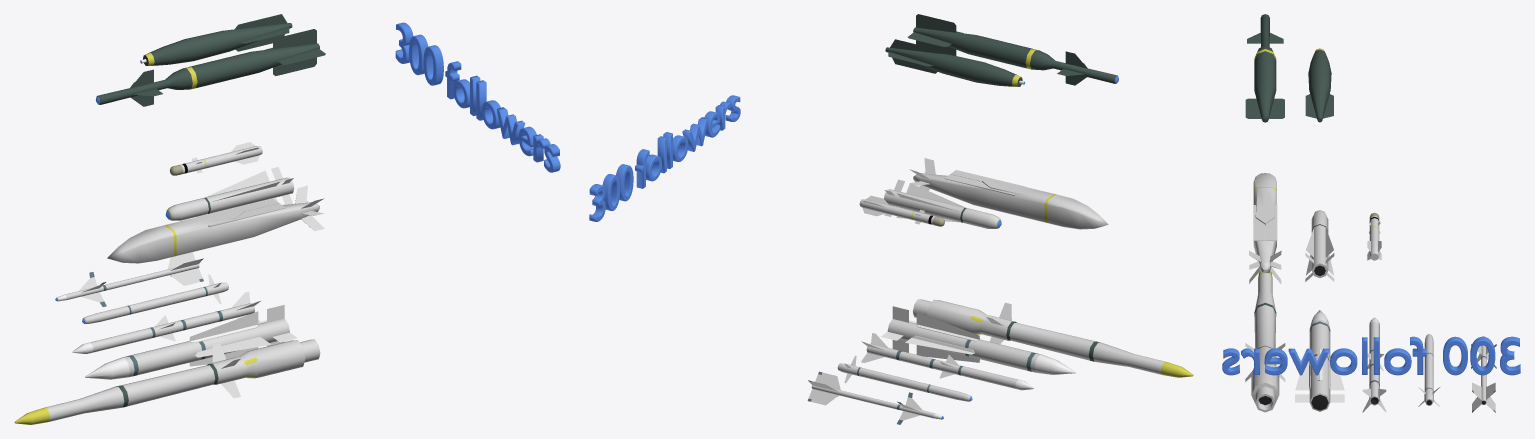
The model's file is missile_set.glb.
3 renders of one model, left to right at view 1: azimuth 30°, elevation 25°; view 2: azimuth 150°, elevation 25°; view 3: azimuth 270°, elevation 25°, orthographic. The views are drawn at different scales.
Parts seen in each view (by area): view 1: KS-172 Novator_11, AGM-154 JSOW_1, Text.001_4, AIM-54 Phoenix_8, GBU-24 Paveway_6, Mk83 bomb_7, AGM65 Maverick_0, AIM-120 Amraam_10, AIM-9 Sidewinder_9, AIM-132 Asraam_12, MBDA Brimstone_2; view 2: KS-172 Novator_11, AGM-154 JSOW_1, AIM-54 Phoenix_8, Text.001_4, GBU-24 Paveway_6, Mk83 bomb_7, AGM65 Maverick_0, AIM-120 Amraam_10, AIM-9 Sidewinder_9, AIM-132 Asraam_12, MBDA Brimstone_2; view 3: Text.001_4, KS-172 Novator_11, AGM-154 JSOW_1, GBU-24 Paveway_6, AIM-54 Phoenix_8, Mk83 bomb_7, AGM65 Maverick_0, AIM-120 Amraam_10, AIM-9 Sidewinder_9, AIM-132 Asraam_12, MBDA Brimstone_2.
Boxes of the visible parts, bbox=[...] form: KS-172 Novator_11: bbox=[14, 339, 320, 424]; AGM-154 JSOW_1: bbox=[107, 185, 324, 263]; Text.001_4: bbox=[395, 22, 560, 172]; AIM-54 Phoenix_8: bbox=[85, 305, 297, 379]; GBU-24 Paveway_6: bbox=[96, 29, 325, 106]; Mk83 bomb_7: bbox=[140, 14, 292, 65]; AGM65 Maverick_0: bbox=[165, 167, 294, 220]; AIM-120 Amraam_10: bbox=[72, 291, 260, 353]; AIM-9 Sidewinder_9: bbox=[55, 252, 203, 306]; AIM-132 Asraam_12: bbox=[82, 274, 228, 323]; MBDA Brimstone_2: bbox=[169, 142, 262, 175]; KS-172 Novator_11: bbox=[913, 299, 1193, 377]; AGM-154 JSOW_1: bbox=[909, 158, 1108, 229]; AIM-54 Phoenix_8: bbox=[881, 306, 1075, 374]; Text.001_4: bbox=[589, 95, 740, 221]; GBU-24 Paveway_6: bbox=[908, 14, 1118, 85]; Mk83 bomb_7: bbox=[885, 39, 1025, 86]; AGM65 Maverick_0: bbox=[884, 179, 1001, 228]; AIM-120 Amraam_10: bbox=[861, 333, 1034, 390]; AIM-9 Sidewinder_9: bbox=[807, 371, 943, 424]; AIM-132 Asraam_12: bbox=[837, 355, 972, 401]; MBDA Brimstone_2: bbox=[859, 195, 944, 226]; Text.001_4: bbox=[1222, 336, 1520, 375]; KS-172 Novator_11: bbox=[1245, 271, 1285, 412]; AGM-154 JSOW_1: bbox=[1249, 173, 1281, 283]; GBU-24 Paveway_6: bbox=[1245, 14, 1284, 122]; AIM-54 Phoenix_8: bbox=[1295, 310, 1344, 411]; Mk83 bomb_7: bbox=[1305, 48, 1333, 122]; AGM65 Maverick_0: bbox=[1305, 210, 1334, 281]; AIM-120 Amraam_10: bbox=[1362, 317, 1386, 412]; AIM-9 Sidewinder_9: bbox=[1471, 336, 1496, 412]; AIM-132 Asraam_12: bbox=[1418, 334, 1440, 406]; MBDA Brimstone_2: bbox=[1367, 212, 1381, 260].
Bounding box in the file's own units: 10.47 × 6.58 × 5.47.
